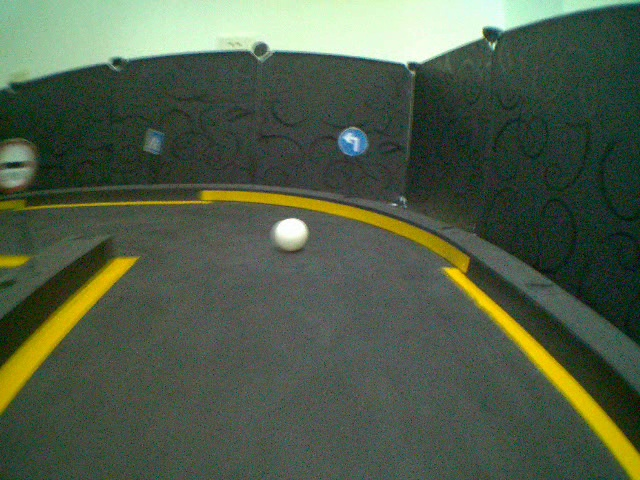ball: (273, 215, 310, 251)
